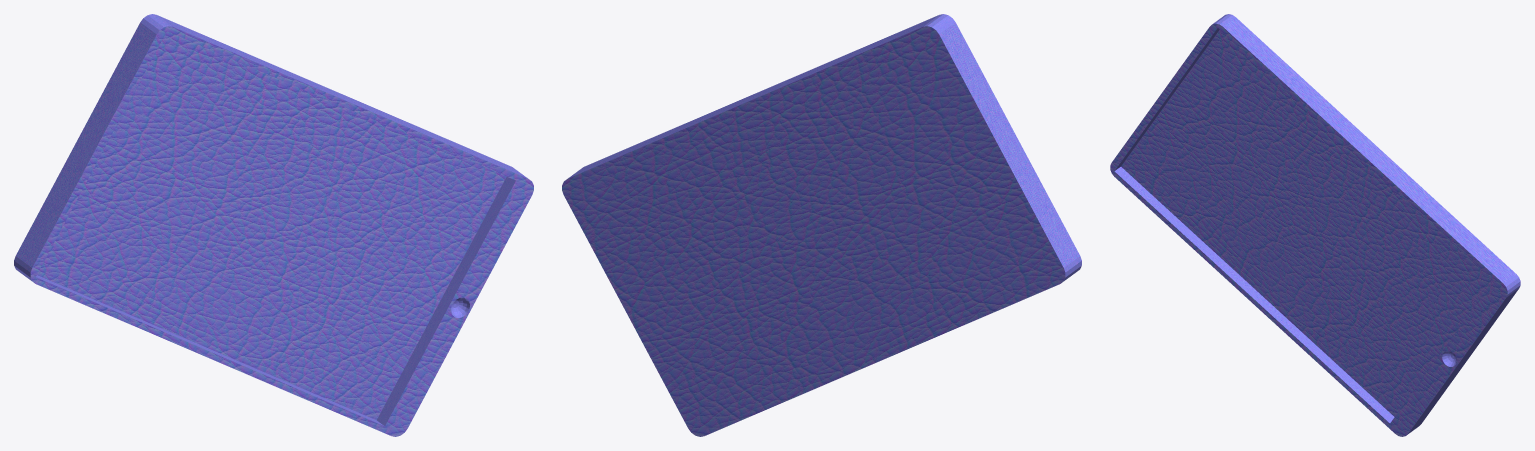
The model's file is cel.dae.
The picture shows the model from 3 angles, left to right: view 1: azimuth 30°, elevation 25°; view 2: azimuth 150°, elevation 25°; view 3: azimuth 330°, elevation 25°; orthographic projection. The views are drawn at different scales.
Visible parts, largest first — view 1: node; view 2: node; view 3: node.
Boxes of the visible parts, bbox=[...] form: node: bbox=[14, 14, 533, 436]; node: bbox=[562, 14, 1081, 436]; node: bbox=[1110, 14, 1520, 436].
Bounding box in the file's own units: 202 × 179 × 11.49.
1 material, 1 textured.
